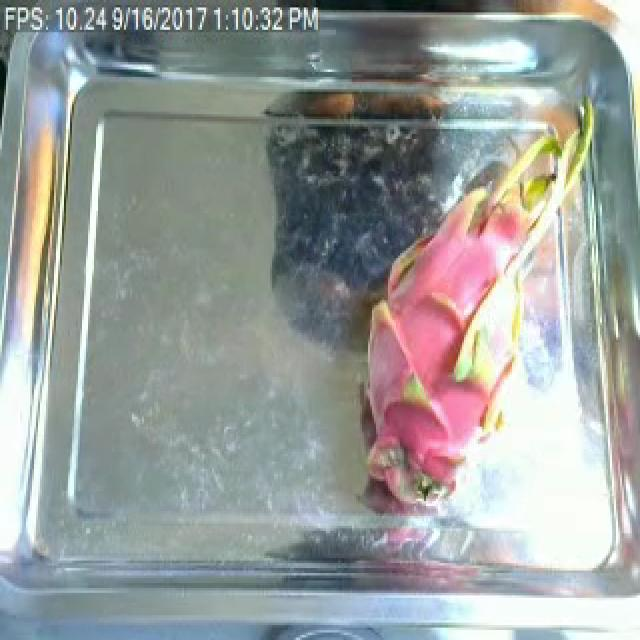fruit: (348, 109, 594, 524)
